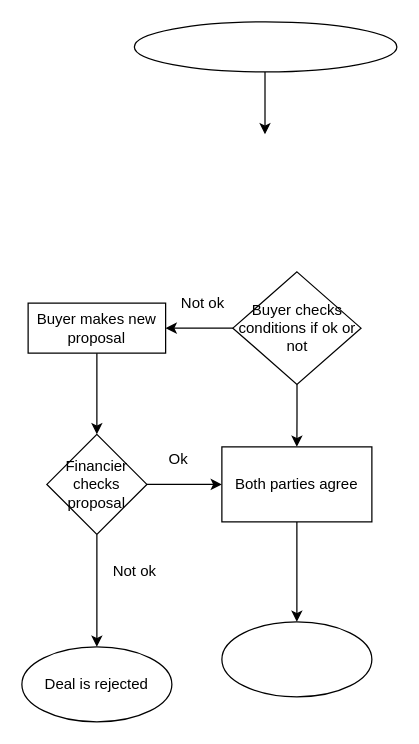
Some shapes in this 419 by 744 pixel diagram are drawn without their labels. Here are the shapes that lost their labels. From the top down, the centre of each, then its label:
At (265,46): "Financier makes a bid with conditions".
At (296,659): "Deal is made".
